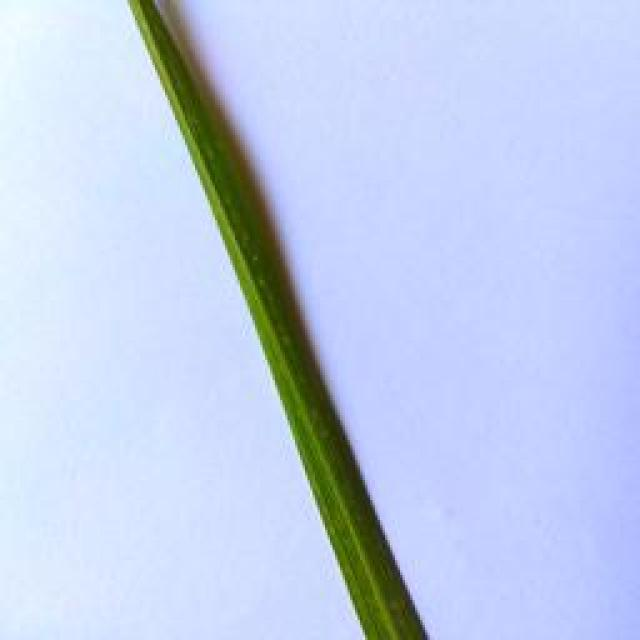Healthy-Plant: (130, 0, 429, 640)
